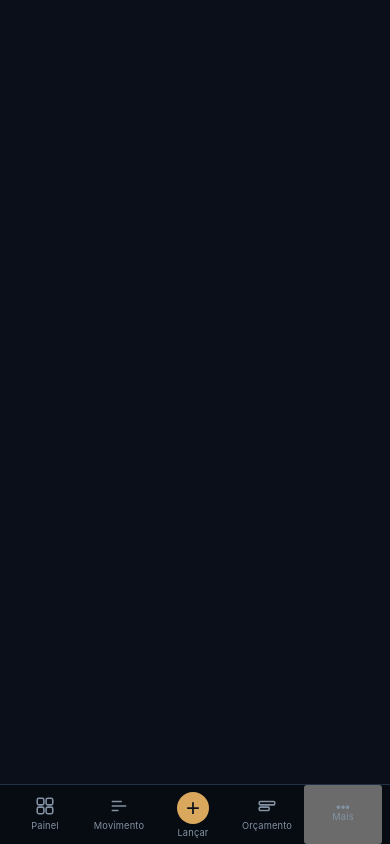
Scenario: MobileNav.vue › só mostra os destinos secundários depois de abrir Mais
Click the button with aria-label "Mais páginas".
click(343, 814)  # box [304,785,382,843]
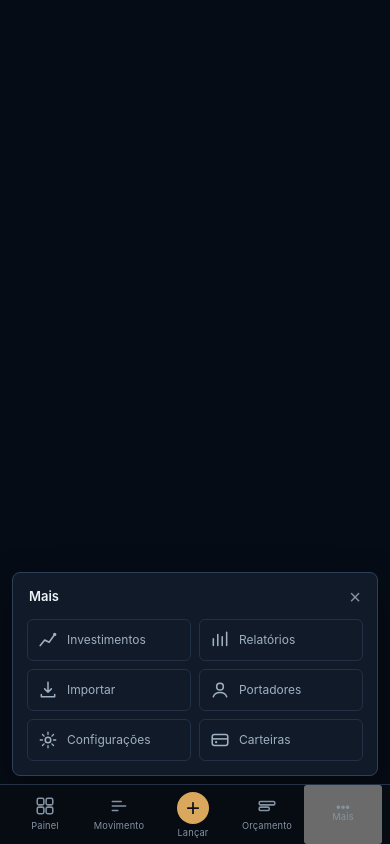
Expected: the link to "/relatorios" is shown, [199,619,363,661]
Expected: the link to "/importar" is shown, [27,669,191,711]
Expected: the link to "/portadores" is shown, [199,669,363,711]
